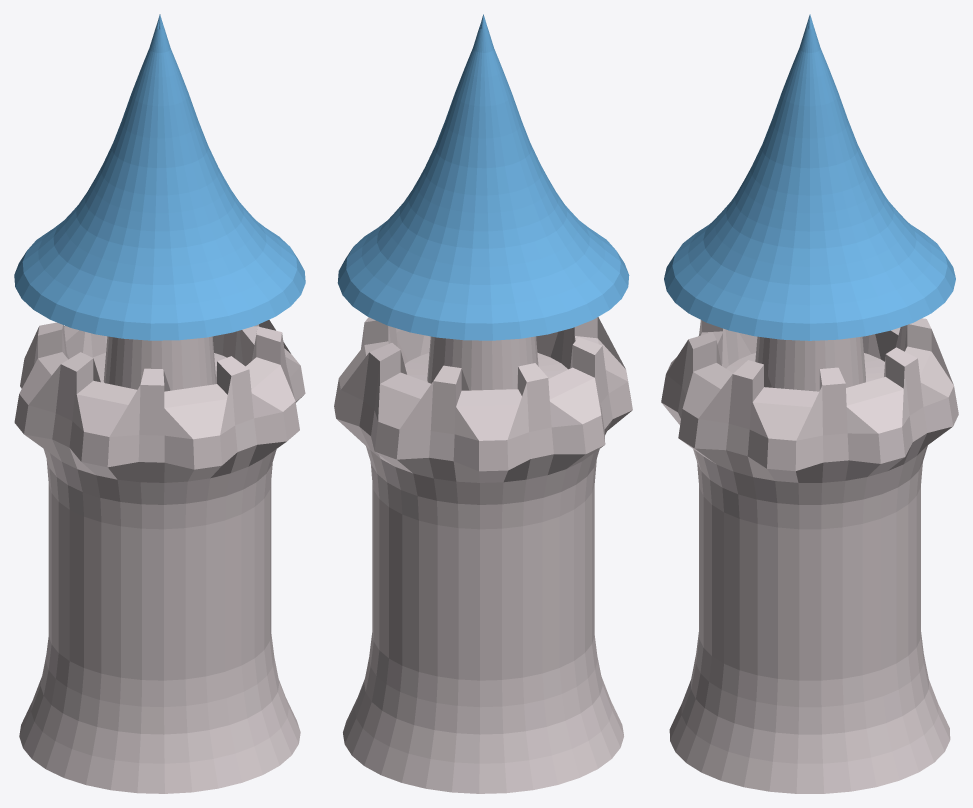
Rendered from cylindrical_tower_0.glb.
3 renders of one model, left to right at view 1: azimuth 30°, elevation 25°; view 2: azimuth 150°, elevation 25°; view 3: azimuth 270°, elevation 25°, orthographic.
Parts seen in each view (by area): view 1: Cylinder.003, Cylinder.002; view 2: Cylinder.003, Cylinder.002; view 3: Cylinder.003, Cylinder.002.
Part boxes in pixels (x1,y1,x2,y2): Cylinder.003: (14,320,305,793); Cylinder.002: (14,14,305,340); Cylinder.003: (334,317,632,793); Cylinder.002: (337,14,629,340); Cylinder.003: (661,318,958,793); Cylinder.002: (664,14,955,340).
Size of the model in its own units: 16.04 by 42.84 by 16.04.
